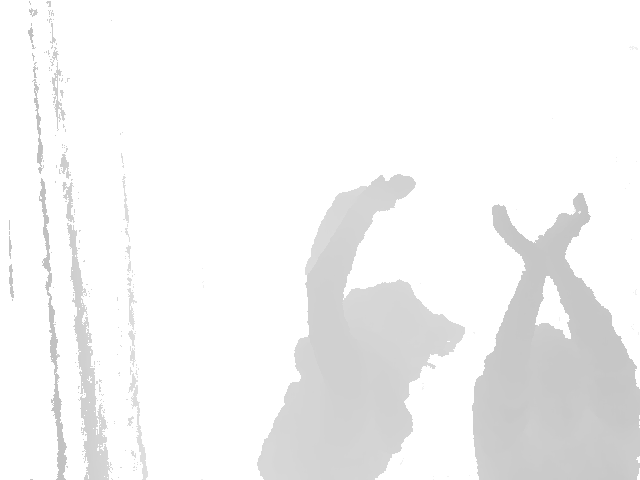hand: (539, 192, 593, 267), (485, 202, 540, 263), (348, 171, 420, 217)
head: (333, 281, 470, 378), (520, 323, 578, 421)
person: (259, 172, 464, 480), (471, 180, 640, 480)
